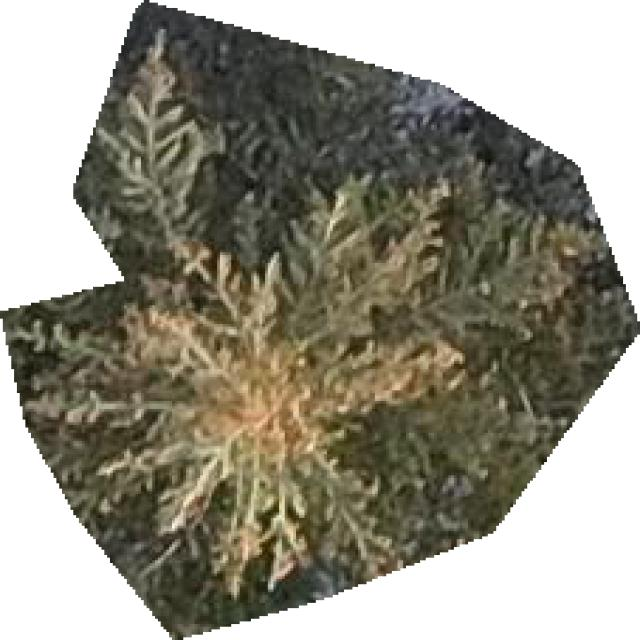spruce: (0, 0, 637, 637)
